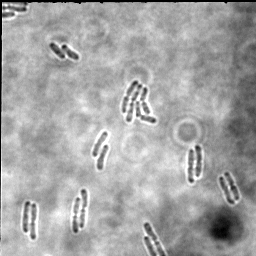Dividing: (143, 221, 166, 255), (223, 171, 241, 202), (217, 176, 236, 205), (77, 188, 89, 230), (193, 143, 204, 180), (71, 196, 81, 234), (186, 148, 195, 185)
Microcolony: (120, 80, 158, 125)
Rod: (91, 131, 109, 157), (96, 144, 110, 171), (61, 44, 80, 62), (21, 201, 31, 234), (48, 43, 66, 61), (142, 236, 156, 255)
